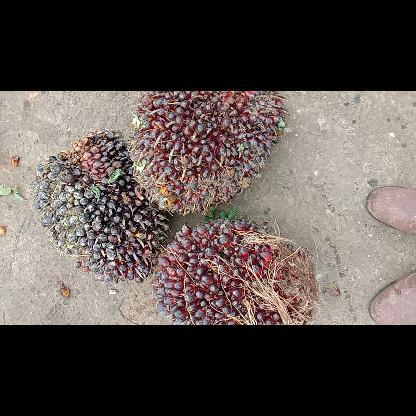Kurang masak: (132, 92, 284, 216), (153, 220, 317, 324)
TBS mentah: (36, 132, 172, 284)
